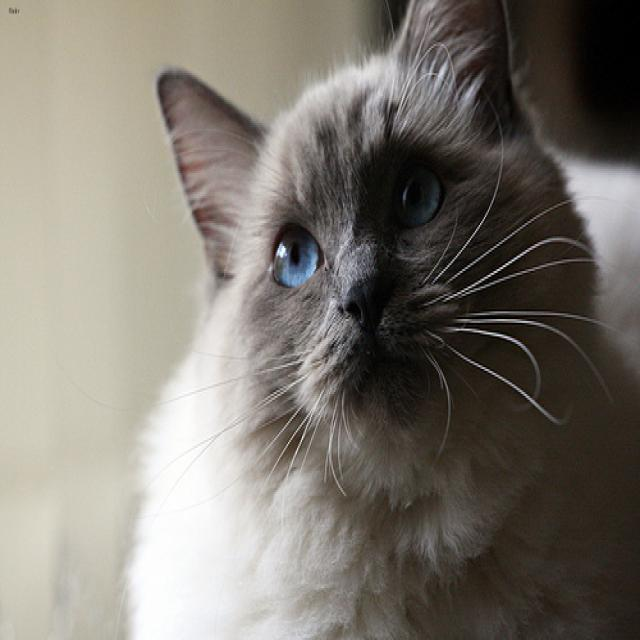Ragdoll: (153, 0, 605, 520)
